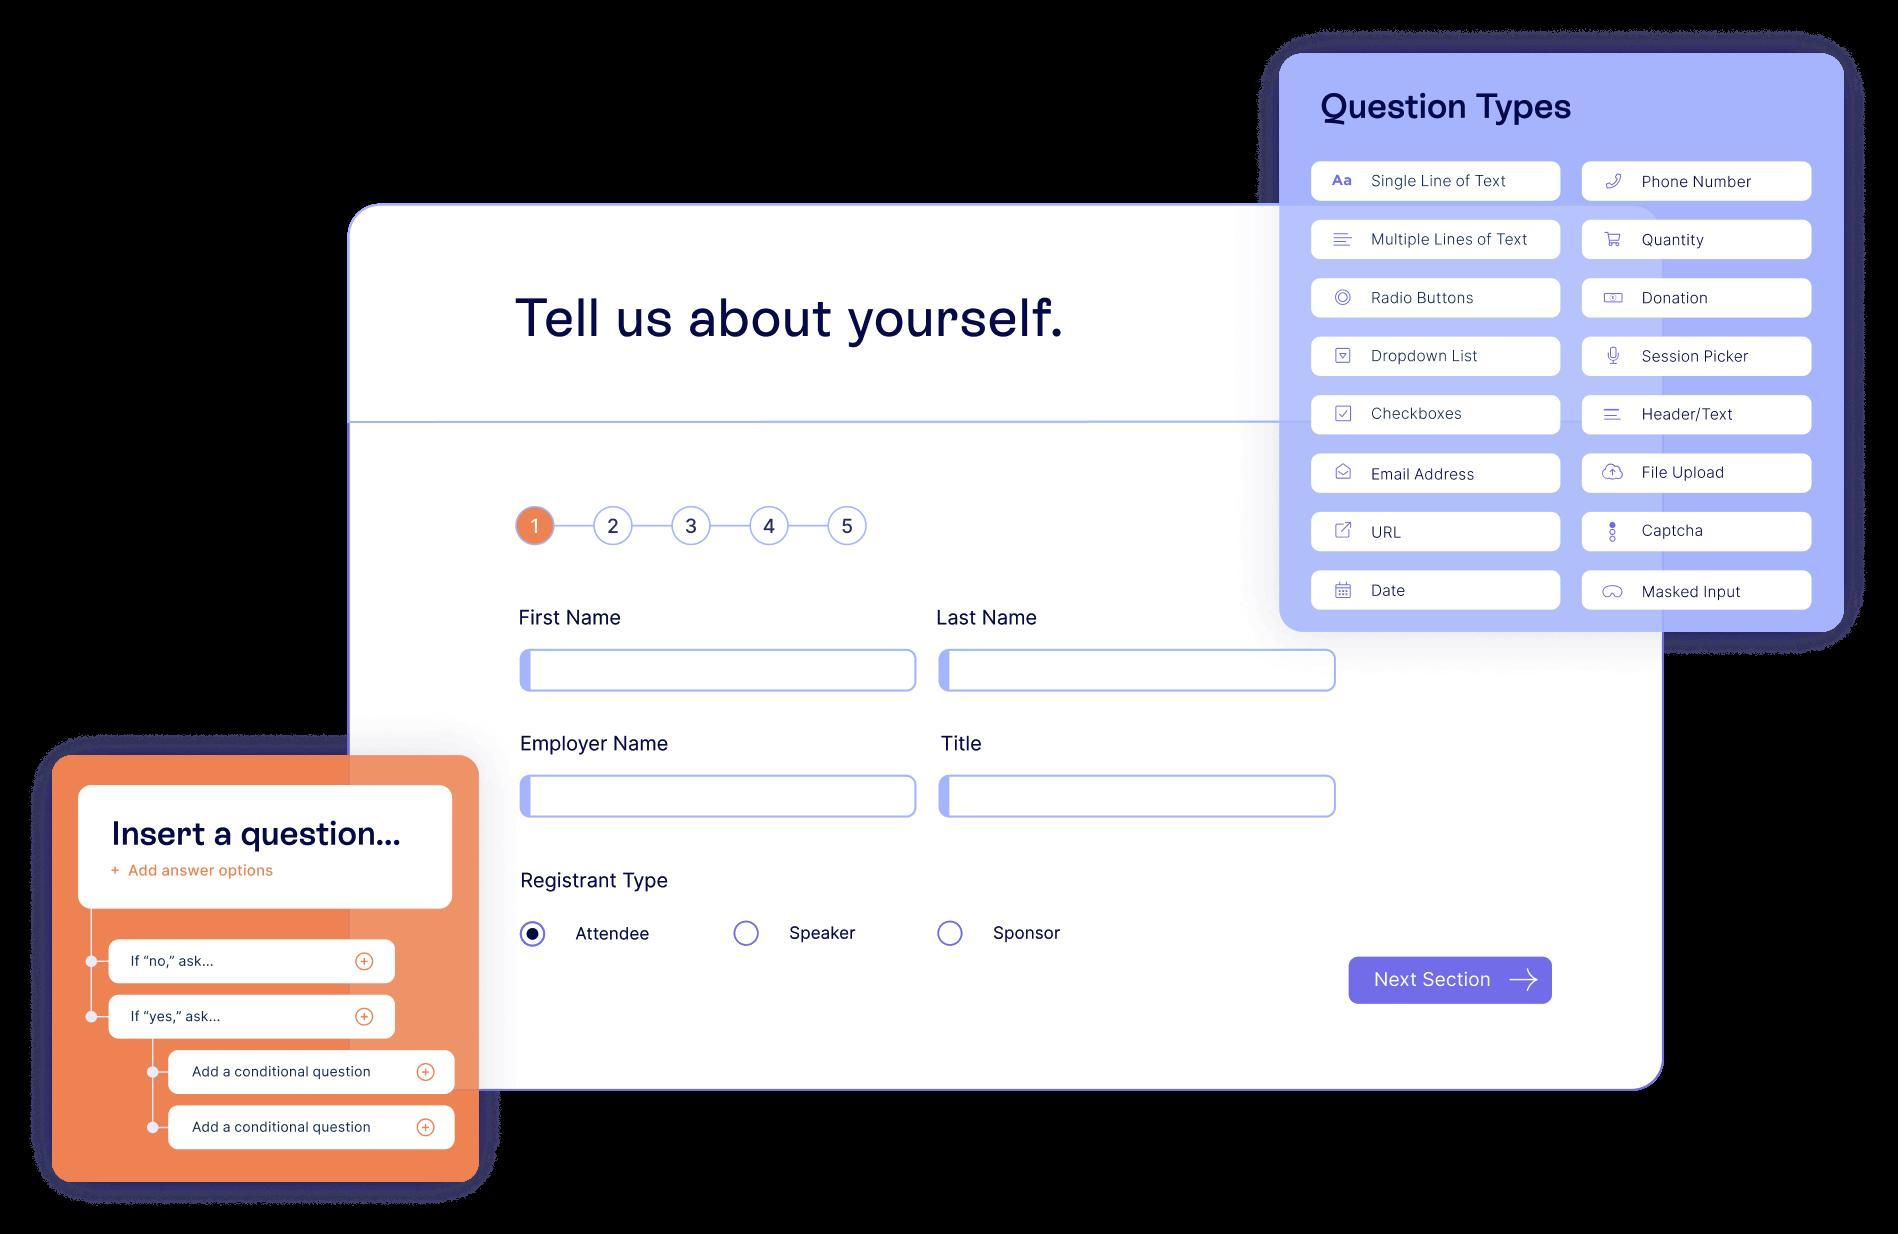button: (1347, 957, 1554, 1007)
checkbox: (1335, 404, 1354, 423)
icon: (1603, 228, 1625, 249), (1601, 463, 1625, 481), (1334, 580, 1354, 600), (1602, 582, 1625, 600), (1603, 173, 1623, 192), (1334, 522, 1354, 540), (1602, 289, 1625, 304), (1606, 344, 1621, 367), (1329, 174, 1353, 188), (1335, 347, 1353, 365), (1334, 232, 1353, 249), (1336, 465, 1353, 481), (1603, 407, 1621, 422), (1607, 522, 1619, 545)
input: (527, 646, 919, 697), (949, 773, 1338, 819), (528, 773, 919, 818), (949, 649, 1338, 692)
label: (513, 293, 1067, 349), (1318, 89, 1577, 127), (517, 869, 672, 898), (516, 730, 672, 757), (513, 606, 627, 631), (931, 605, 1043, 629), (1370, 232, 1531, 249), (1371, 173, 1507, 191), (1372, 347, 1480, 367), (1642, 174, 1751, 191), (1372, 291, 1476, 307), (1370, 468, 1476, 483), (1643, 349, 1750, 364), (1642, 407, 1735, 423), (1643, 585, 1743, 600), (1372, 405, 1464, 421), (1642, 465, 1725, 481), (789, 924, 859, 943), (575, 928, 652, 943), (937, 730, 985, 754), (1642, 523, 1704, 540), (995, 926, 1062, 941), (1642, 291, 1708, 306), (1643, 234, 1704, 250), (1370, 582, 1410, 598), (1370, 524, 1401, 541)
radio: (733, 919, 761, 948), (937, 920, 964, 948), (519, 921, 546, 948), (1334, 289, 1354, 307)
